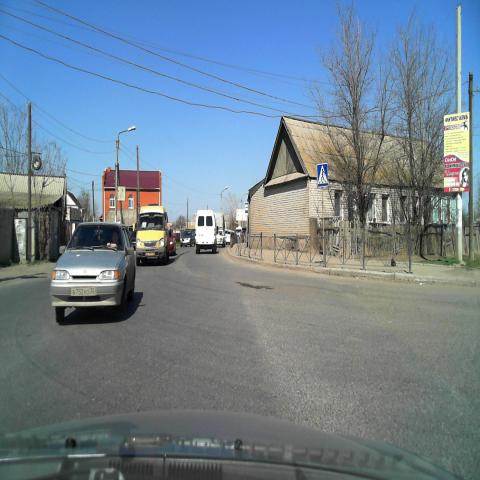5_19_1: (316, 163, 328, 188)
